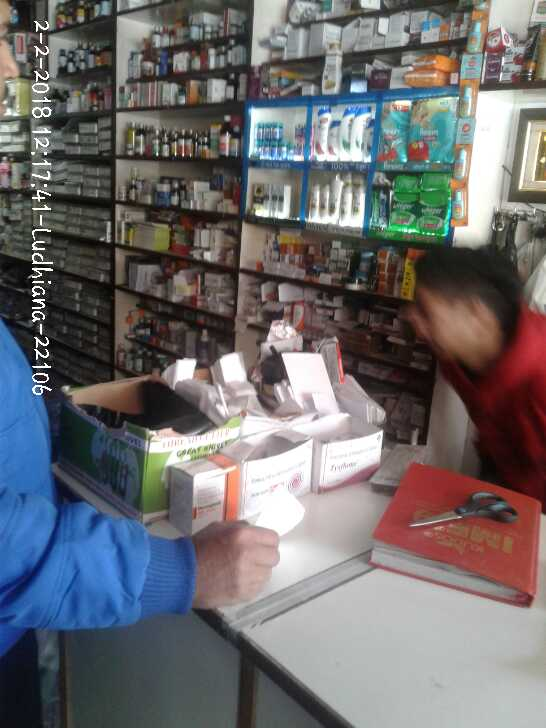vicks: (254, 117, 308, 157)
